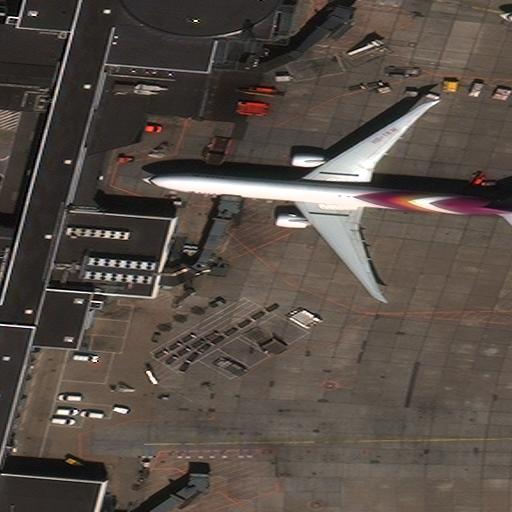Large Civil Transport: (139, 98, 512, 302)
